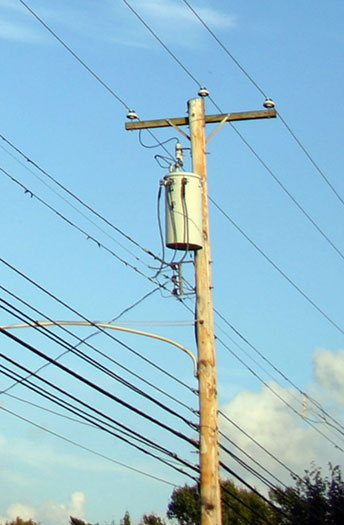utility_pole: (112, 74, 283, 312)
